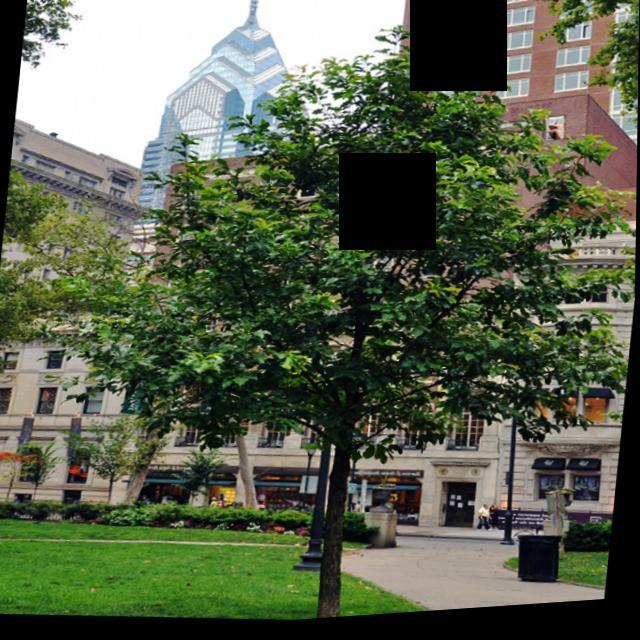Tree: (81, 17, 640, 637), (1, 1, 143, 546), (517, 1, 640, 141)
